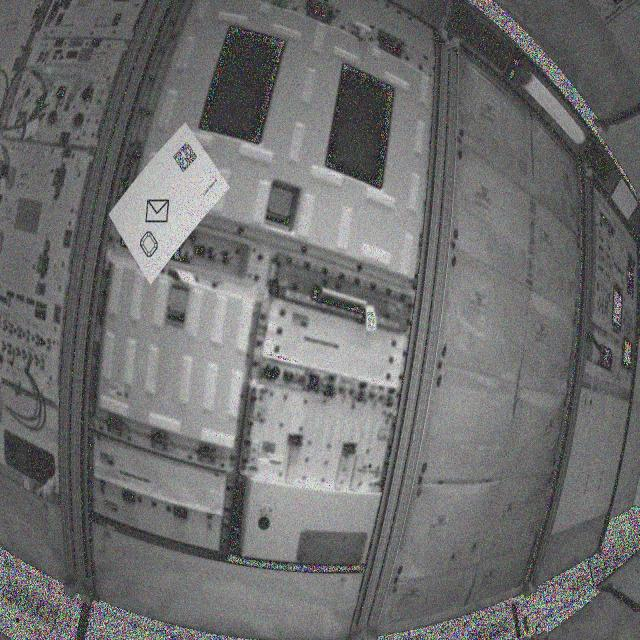emerald: (140, 230, 161, 259)
letter: (145, 196, 172, 227)
